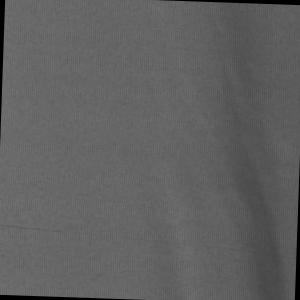Wrinkle: (112, 1, 300, 300)
